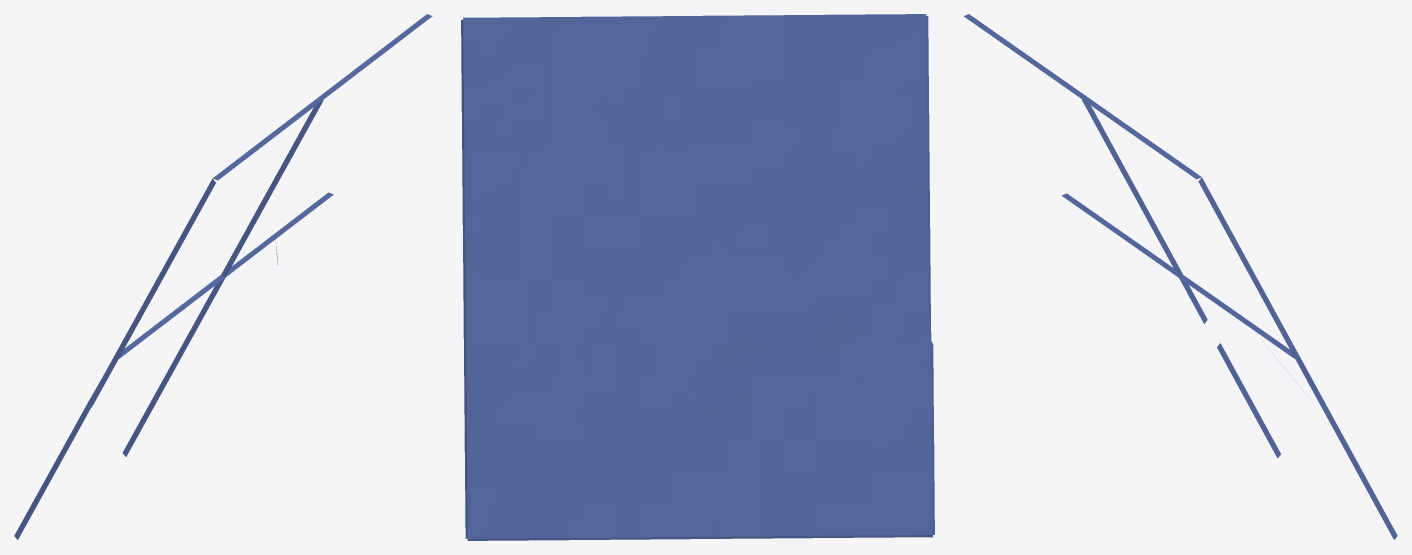
3 renders of one model, left to right at view 1: azimuth 30°, elevation 25°; view 2: azimuth 150°, elevation 25°; view 3: azimuth 270°, elevation 25°, orthographic. The views are drawn at different scales.
Bounding box in the file's own units: 39586 × 35316 × 33691.
1 material, 1 textured.
